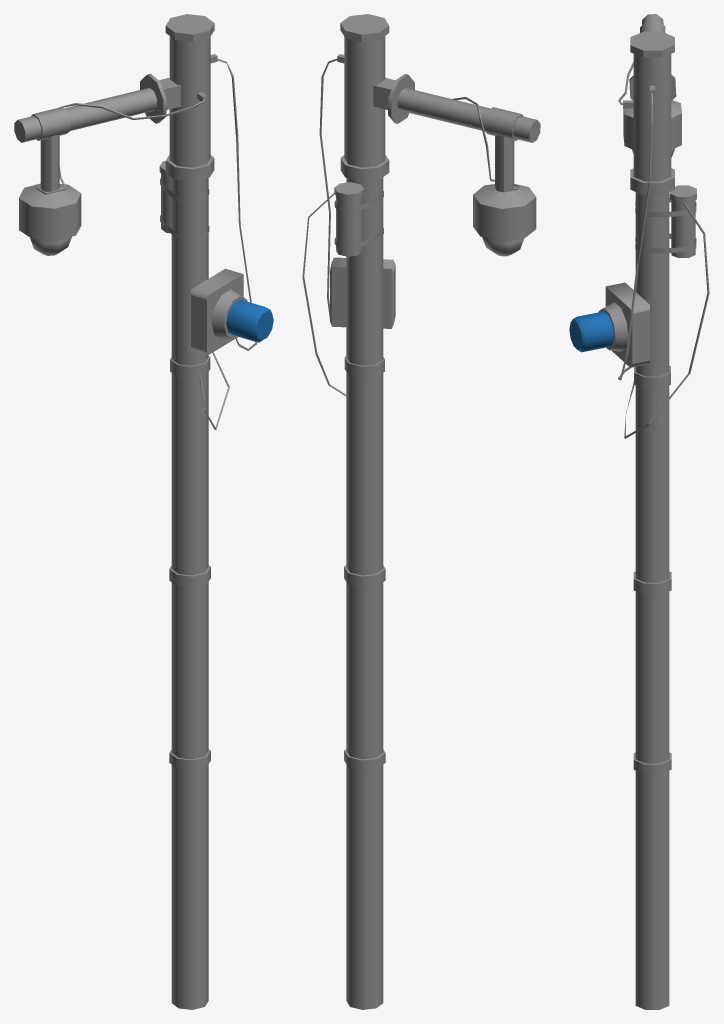
Rendered from CCTVpole 1.fbx.
3 renders of one model, left to right at view 1: azimuth 30°, elevation 25°; view 2: azimuth 150°, elevation 25°; view 3: azimuth 270°, elevation 25°, orthographic.
Parts seen in each view (by area): view 1: CCTVpole; view 2: CCTVpole; view 3: CCTVpole.
Boxes of the visible parts, bbox=[...] form: CCTVpole: bbox=[14, 14, 273, 1009]; CCTVpole: bbox=[302, 14, 540, 1009]; CCTVpole: bbox=[569, 14, 709, 1009].
Size of the model in its own units: 1.3 by 5.51 by 0.7282.
